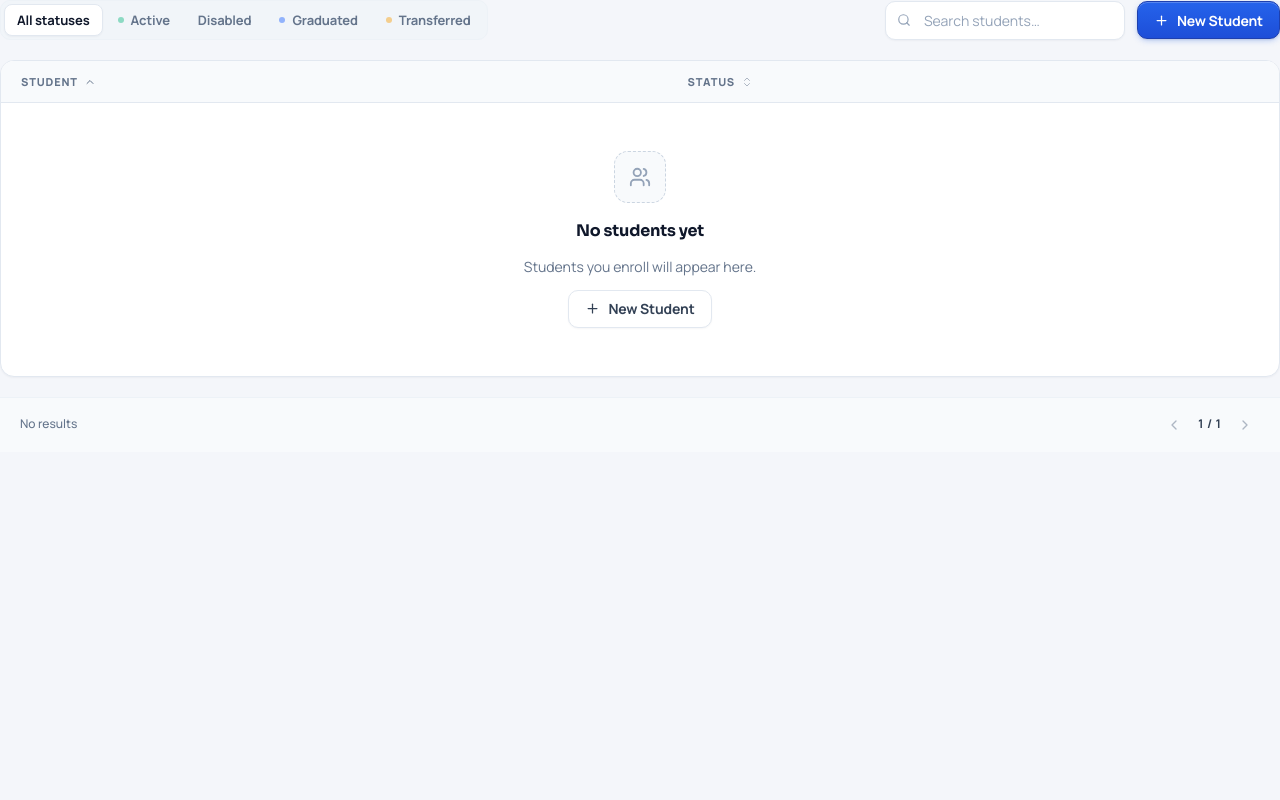
Test: StudentsPage › opens the new student's detail drawer with transport assignment ready right after enrollment
Expected: the text "No students yet" is shown, [576, 219, 704, 244]
Step 1. Click the 1st button "New Student" → (1208, 20), box [1137, 1, 1279, 39]
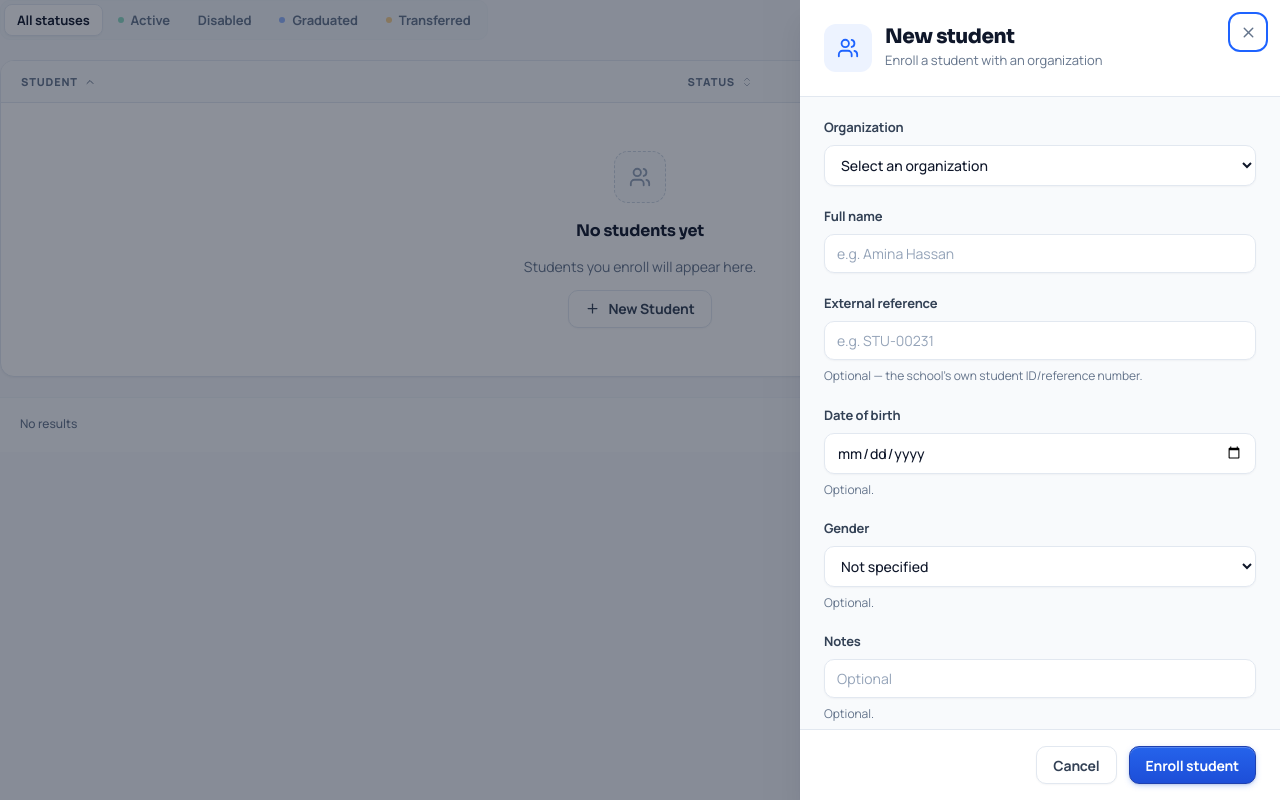
Step 2. Select "Green Valley School" in the dropdown labelled "Organization" → (1040, 166), box [824, 145, 1256, 186]
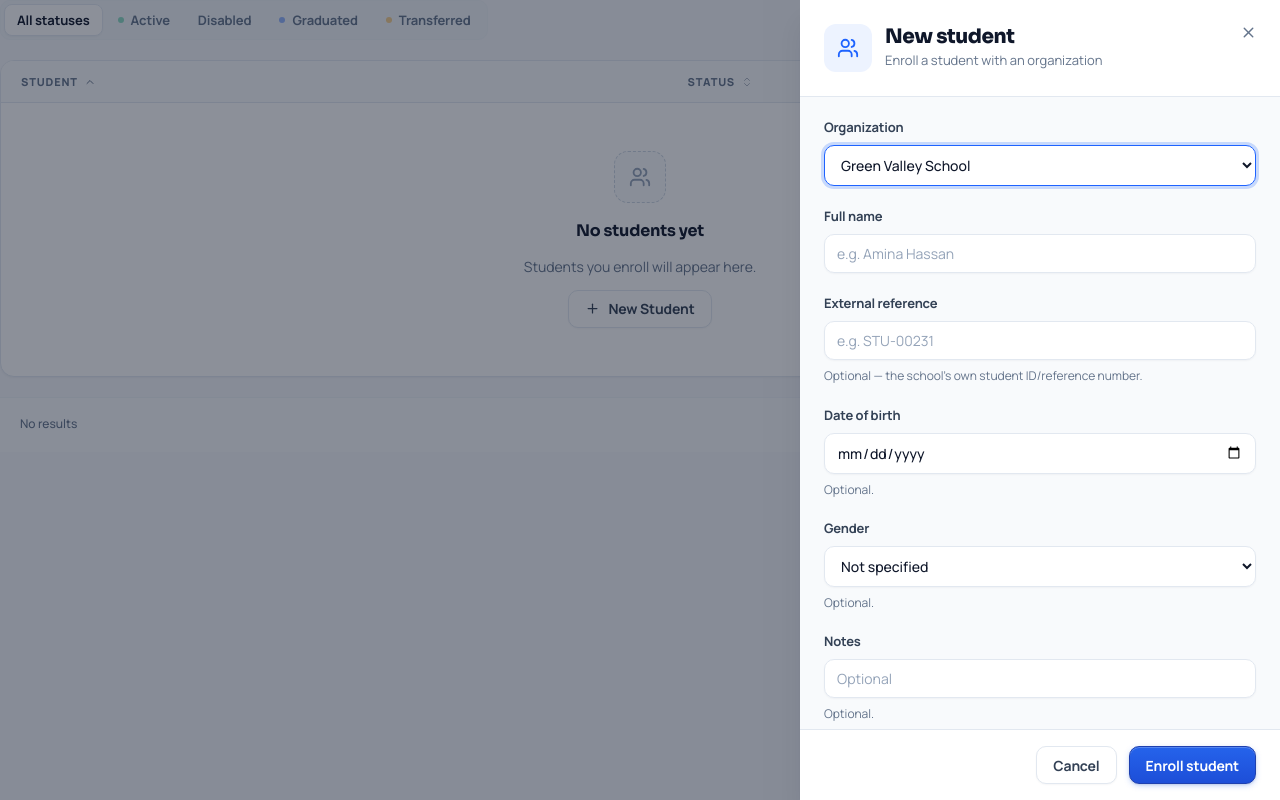
Step 3. Type "Yusuf Omar" into the field with placeholder "e.g. Amina Hassan" → (1040, 254), box [824, 234, 1256, 273]
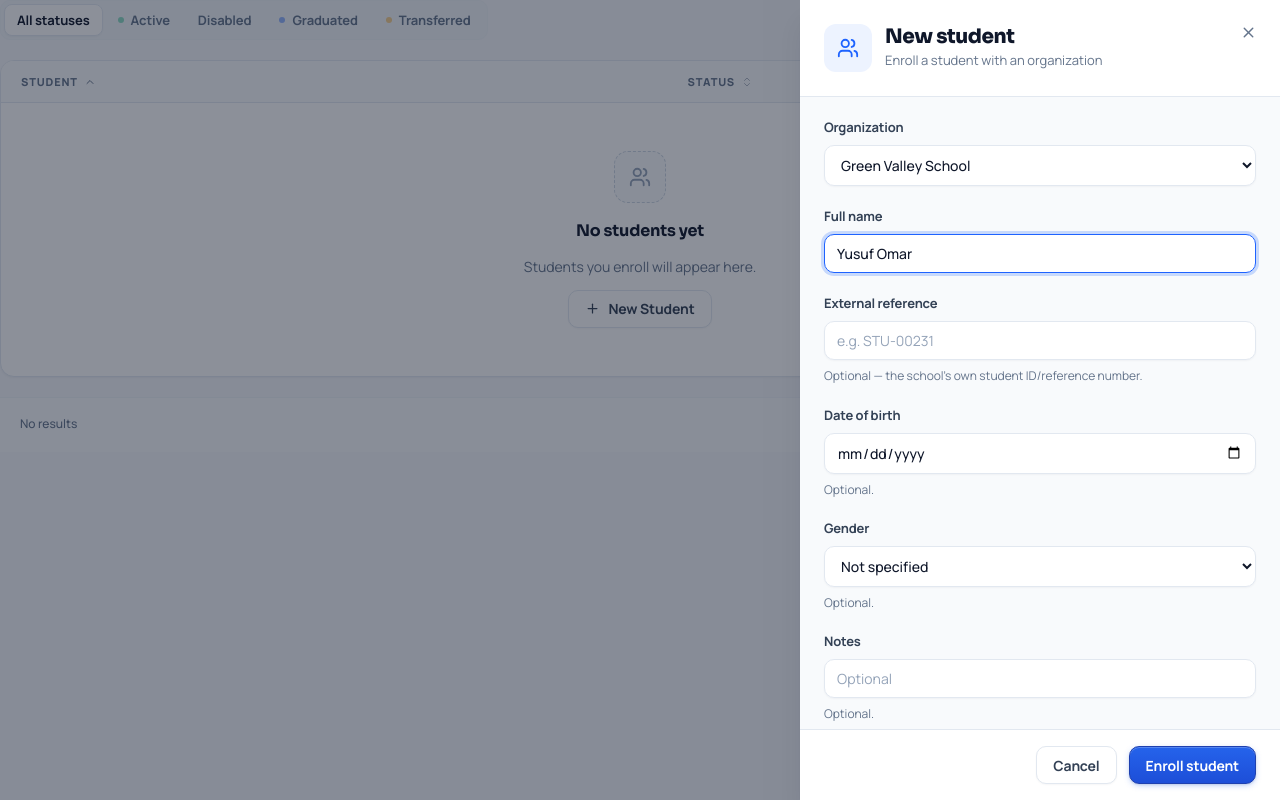
Step 4. Click the button "Enroll student" → (1192, 765), box [1129, 746, 1256, 784]
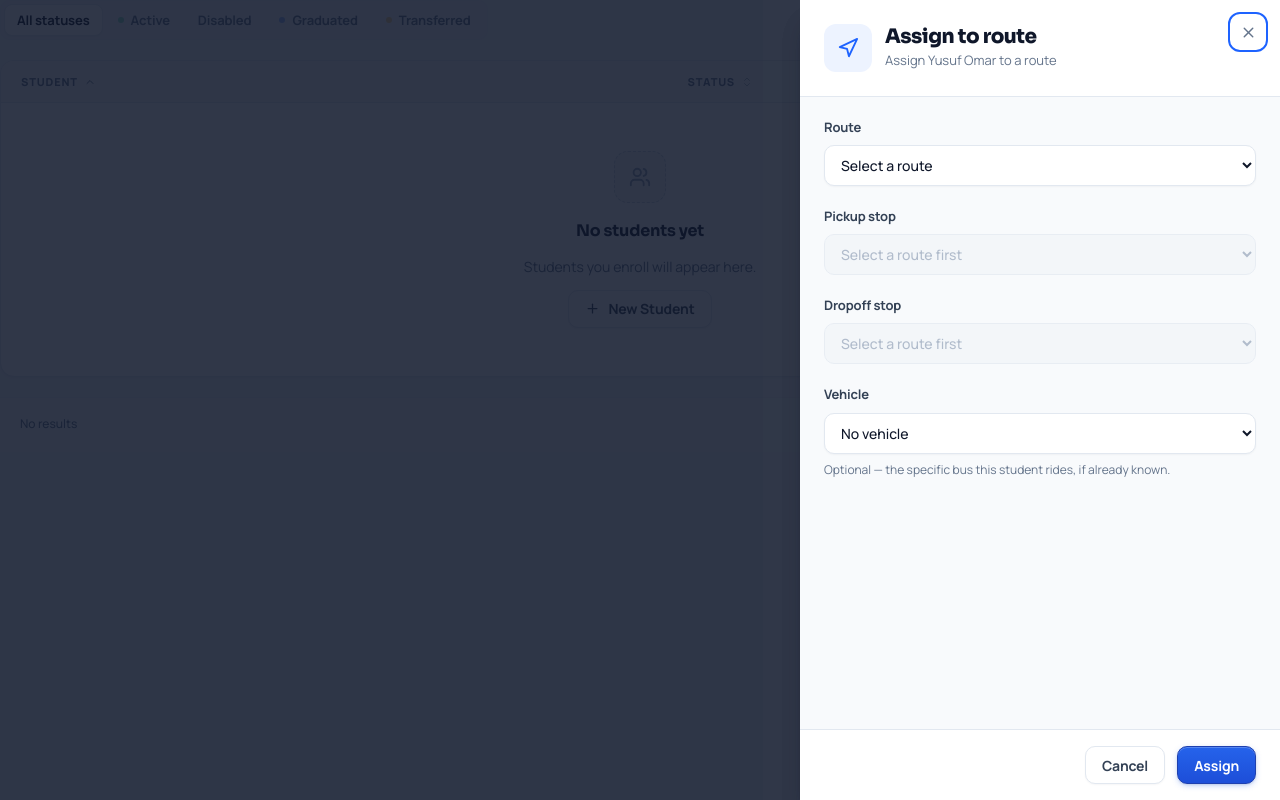
Now the text "Link a parent to Yusuf Omar" is shown, box [885, 50, 1061, 70]
Now the text "Assign Yusuf Omar to a route" is shown, box [885, 50, 1077, 70]
